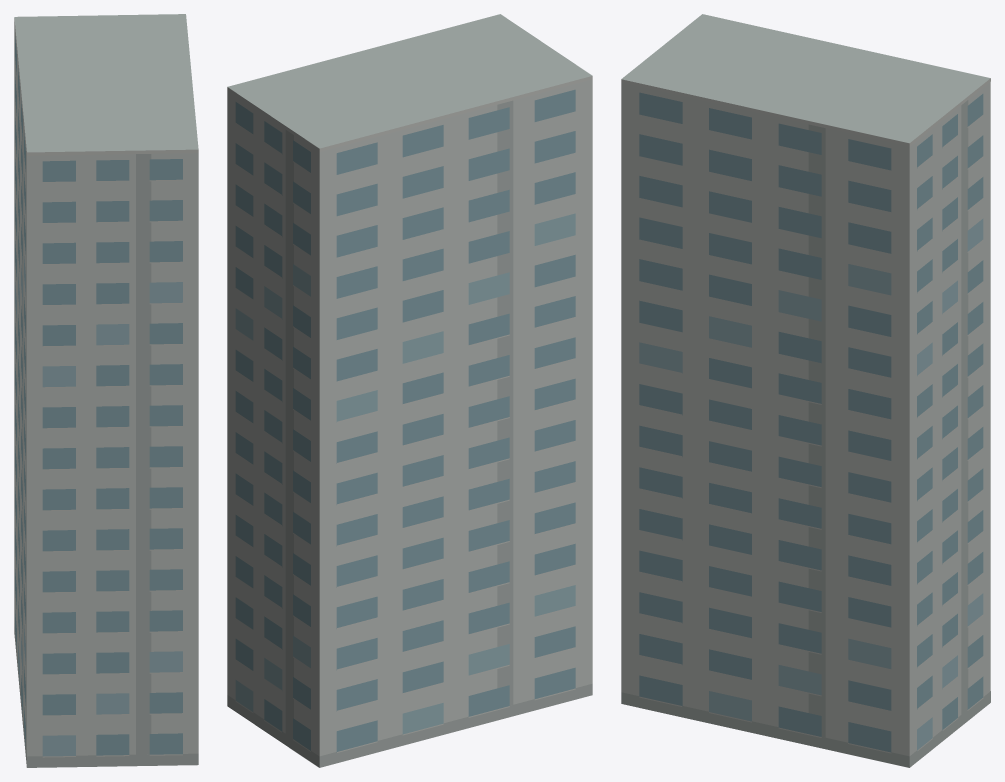
The model's file is residential-34ae06e2-cc94-4c69-9aaa-5ac6281b978e.glb.
The picture shows the model from 3 angles, left to right: view 1: azimuth 30°, elevation 25°; view 2: azimuth 150°, elevation 25°; view 3: azimuth 270°, elevation 25°; orthographic projection.
Parts seen in each view (by area): view 1: residential-34ae06e2-cc94-4c69-9aaa-5ac6281b978e.tmp; view 2: residential-34ae06e2-cc94-4c69-9aaa-5ac6281b978e.tmp; view 3: residential-34ae06e2-cc94-4c69-9aaa-5ac6281b978e.tmp.
Part boxes in pixels (box(x1,y1,x2,y2)): residential-34ae06e2-cc94-4c69-9aaa-5ac6281b978e.tmp: box(14, 14, 198, 767); residential-34ae06e2-cc94-4c69-9aaa-5ac6281b978e.tmp: box(227, 14, 592, 767); residential-34ae06e2-cc94-4c69-9aaa-5ac6281b978e.tmp: box(621, 14, 990, 767).
Size of the model in its own units: 19.1 by 43 by 23.06.
